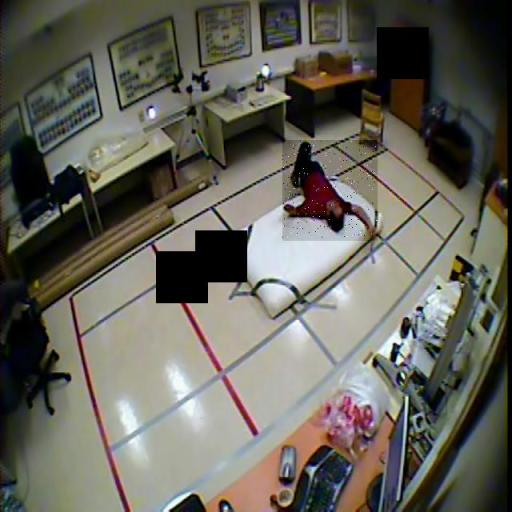Fall: (283, 140, 378, 241)
